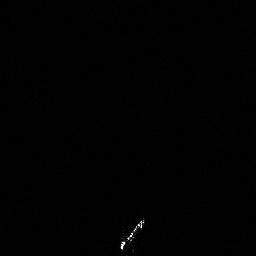ship: (118, 216, 147, 254)
